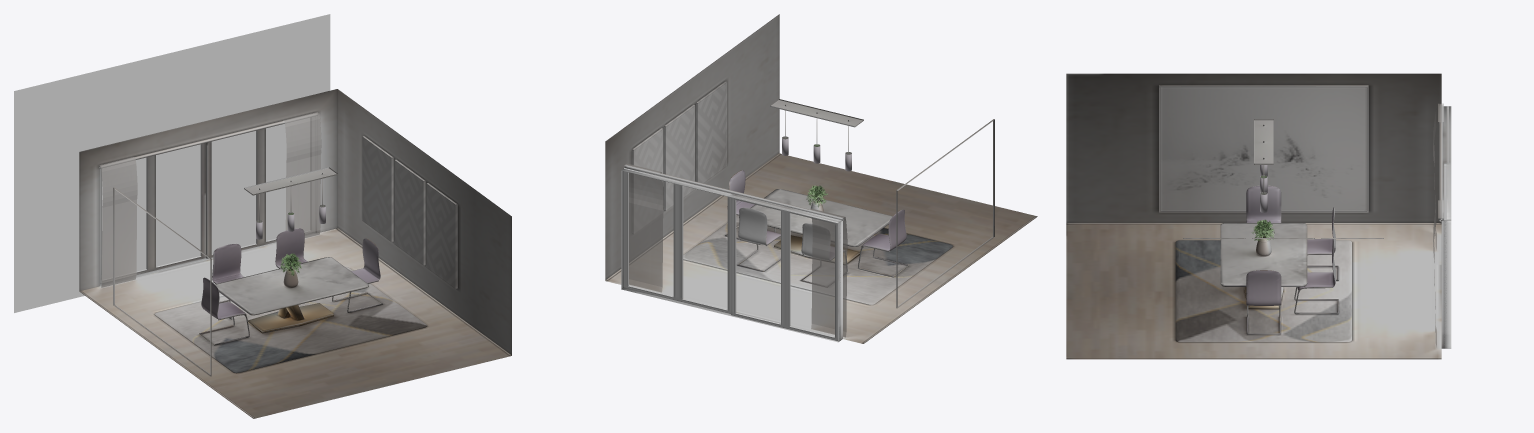
The model's file is dining_room.glb.
The picture shows the model from 3 angles, left to right: view 1: azimuth 30°, elevation 25°; view 2: azimuth 150°, elevation 25°; view 3: azimuth 270°, elevation 25°; orthographic projection. The views are drawn at different scales.
Visible parts, largest first — view 1: Backdrop_Backdrop_0, Walls_Walls_0, Modern Dining Room_Floor_0, Carpet_Carpet_0, DiningTable_DiningTable_0, Paintings_Paintings_0, Curtains_Curtains_0, DoorFrame_DoorFrame_0, LightChrome_LightChrome_0, PictureFrame_PictureFrame_0, CurtainPole_CurtainPole_0; view 2: Modern Dining Room_Floor_0, Walls_Walls_0, Carpet_Carpet_0, DoorFrame_DoorFrame_0, Paintings_Paintings_0, DiningTable_DiningTable_0, Curtains_Curtains_0, LightChrome_LightChrome_0, PictureFrame_PictureFrame_0, CurtainPole_CurtainPole_0; view 3: Modern Dining Room_Floor_0, Walls_Walls_0, Picture_Picture_0, Carpet_Carpet_0, DiningTable_DiningTable_0, DoorFrame_DoorFrame_0, PictureFrame_PictureFrame_0, LightChrome_LightChrome_0, Curtains_Curtains_0, CurtainPole_CurtainPole_0.
Part boxes in pixels (bbox=[...]): Backdrop_Backdrop_0: bbox=[14, 14, 330, 312]; Walls_Walls_0: bbox=[79, 89, 511, 355]; Modern Dining Room_Floor_0: bbox=[79, 228, 511, 418]; Carpet_Carpet_0: bbox=[154, 267, 427, 373]; DiningTable_DiningTable_0: bbox=[199, 228, 382, 345]; Paintings_Paintings_0: bbox=[362, 136, 457, 288]; Curtains_Curtains_0: bbox=[99, 112, 321, 287]; DoorFrame_DoorFrame_0: bbox=[100, 116, 316, 285]; LightChrome_LightChrome_0: bbox=[244, 167, 337, 222]; PictureFrame_PictureFrame_0: bbox=[113, 187, 211, 376]; CurtainPole_CurtainPole_0: bbox=[99, 113, 317, 168]; Modern Dining Room_Floor_0: bbox=[605, 153, 1037, 343]; Walls_Walls_0: bbox=[605, 14, 779, 279]; Carpet_Carpet_0: bbox=[683, 215, 953, 304]; DoorFrame_DoorFrame_0: bbox=[621, 167, 842, 342]; Paintings_Paintings_0: bbox=[632, 81, 727, 233]; DiningTable_DiningTable_0: bbox=[725, 170, 908, 287]; Curtains_Curtains_0: bbox=[624, 163, 847, 337]; LightChrome_LightChrome_0: bbox=[770, 99, 863, 154]; PictureFrame_PictureFrame_0: bbox=[896, 119, 994, 308]; CurtainPole_CurtainPole_0: bbox=[625, 165, 843, 220]; Modern Dining Room_Floor_0: bbox=[1066, 223, 1441, 359]; Walls_Walls_0: bbox=[1066, 73, 1441, 223]; Picture_Picture_0: bbox=[1160, 87, 1366, 211]; Carpet_Carpet_0: bbox=[1175, 240, 1351, 342]; DiningTable_DiningTable_0: bbox=[1220, 185, 1338, 334]; DoorFrame_DoorFrame_0: bbox=[1441, 106, 1451, 348]; PictureFrame_PictureFrame_0: bbox=[1159, 85, 1368, 212]; LightChrome_LightChrome_0: bbox=[1254, 119, 1273, 194]; Curtains_Curtains_0: bbox=[1433, 103, 1443, 346]; CurtainPole_CurtainPole_0: bbox=[1439, 104, 1442, 221].
Bounding box in the file's own units: 6.98 × 4.68 × 8.05.
Materials: 17 (14 with a texture image).
